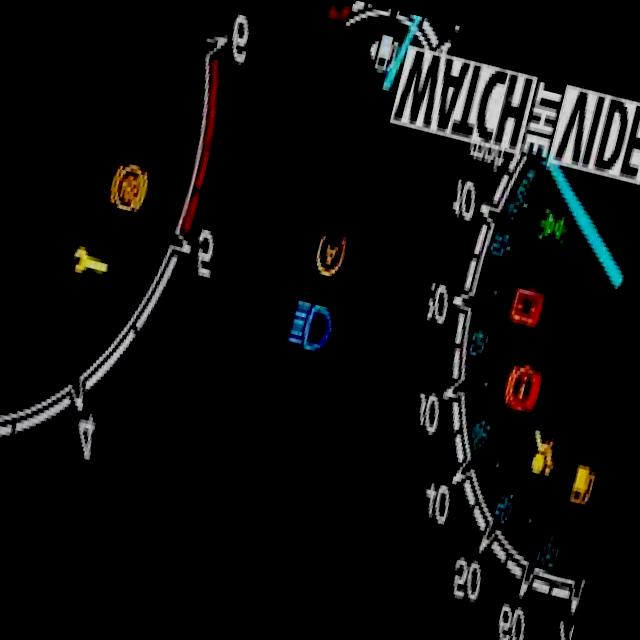kontrolka: (277, 282, 349, 366), (496, 350, 548, 428), (97, 154, 154, 218), (502, 276, 556, 334), (520, 420, 568, 484), (528, 194, 580, 253), (562, 456, 600, 516)
